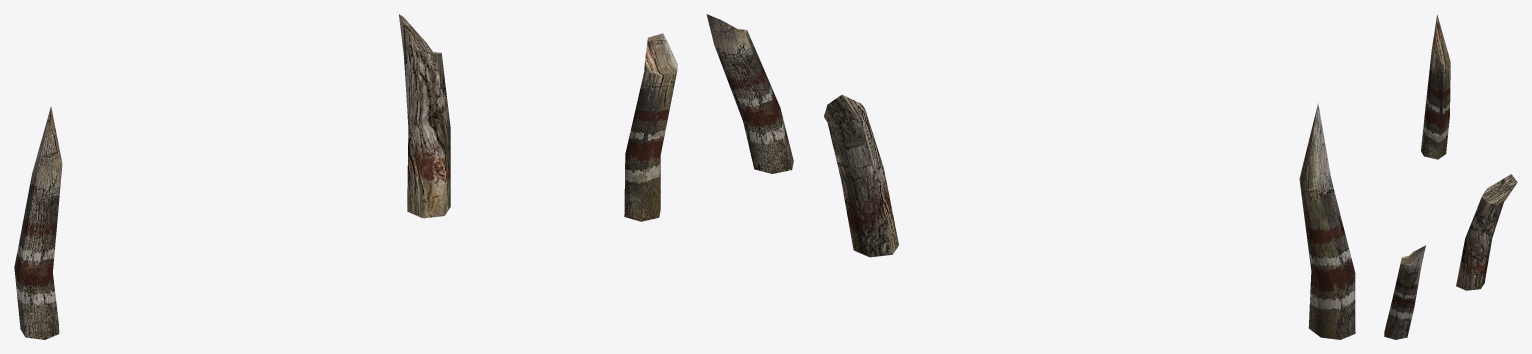
File: OrcProp03.FBX
The picture shows the model from 3 angles, left to right: view 1: azimuth 30°, elevation 25°; view 2: azimuth 150°, elevation 25°; view 3: azimuth 270°, elevation 25°; orthographic projection. The views are drawn at different scales.
Parts seen in each view (by area): view 1: LV_TurtleLake_LakeTower_OrcProp03_SM_KYS; view 2: LV_TurtleLake_LakeTower_OrcProp03_SM_KYS; view 3: LV_TurtleLake_LakeTower_OrcProp03_SM_KYS.
Boxes of the visible parts, x1,y1,x2,y2 form: LV_TurtleLake_LakeTower_OrcProp03_SM_KYS: [14, 14, 677, 339]; LV_TurtleLake_LakeTower_OrcProp03_SM_KYS: [706, 14, 1355, 339]; LV_TurtleLake_LakeTower_OrcProp03_SM_KYS: [1384, 15, 1517, 339].
Size of the model in its own units: 88.58 by 29.13 by 24.67.
